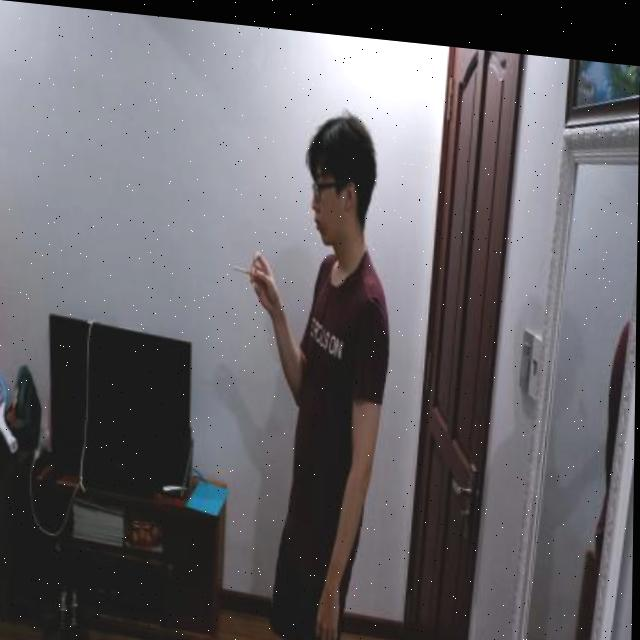cigarette: (233, 258, 253, 272)
